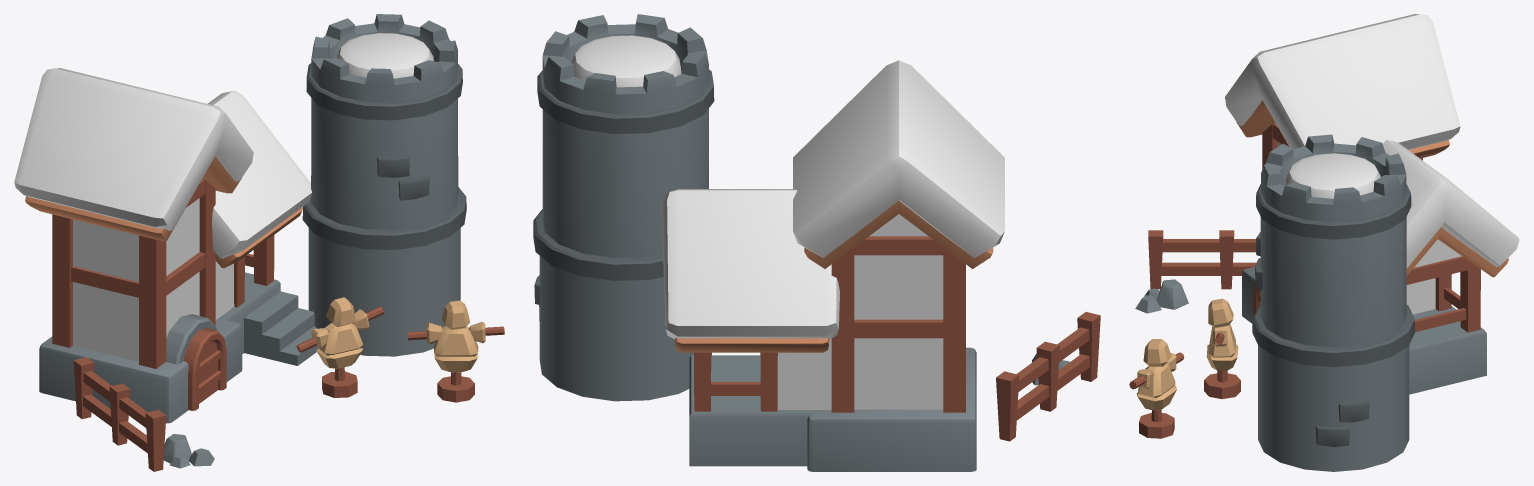
Rendered from barracks_snow.gltf.glb.
3 renders of one model, left to right at view 1: azimuth 30°, elevation 25°; view 2: azimuth 150°, elevation 25°; view 3: azimuth 270°, elevation 25°, orthographic. The views are drawn at different scales.
Visible parts, largest first — view 1: barracks_snow; view 2: barracks_snow; view 3: barracks_snow.
Part boxes in pixels (box(x1,y1,x2,y2)): barracks_snow: box(14, 14, 504, 471); barracks_snow: box(533, 14, 1100, 471); barracks_snow: box(1129, 14, 1519, 471).
Bounding box in the file's own units: 2.04 × 1.36 × 1.65.
